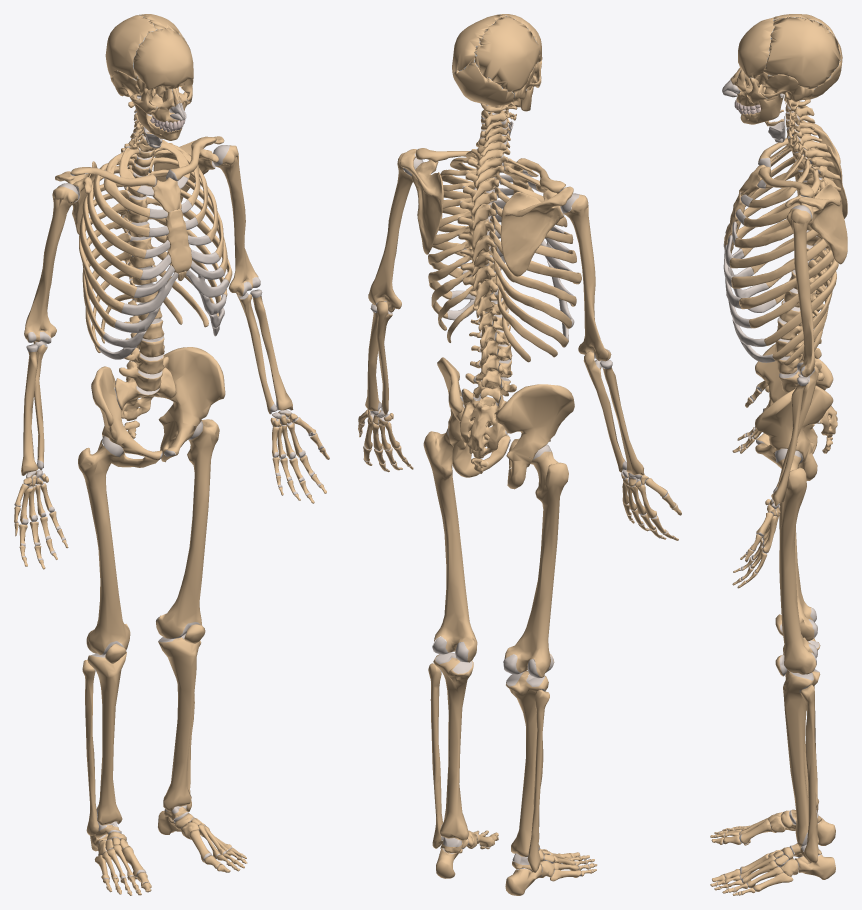
The model's file is skeletal.glb.
3 renders of one model, left to right at view 1: azimuth 30°, elevation 25°; view 2: azimuth 150°, elevation 25°; view 3: azimuth 270°, elevation 25°, orthographic. The views are drawn at different scales.
Visible parts, largest first — view 1: Incus.l; view 2: Incus.l; view 3: Incus.l.
Boxes of the visible parts, x1,y1,x2,y2 form: Incus.l: (14, 14, 329, 895); Incus.l: (358, 14, 681, 895); Incus.l: (710, 14, 847, 895).
Size of the model in its own units: 0.6693 by 1.7 by 0.2501.
